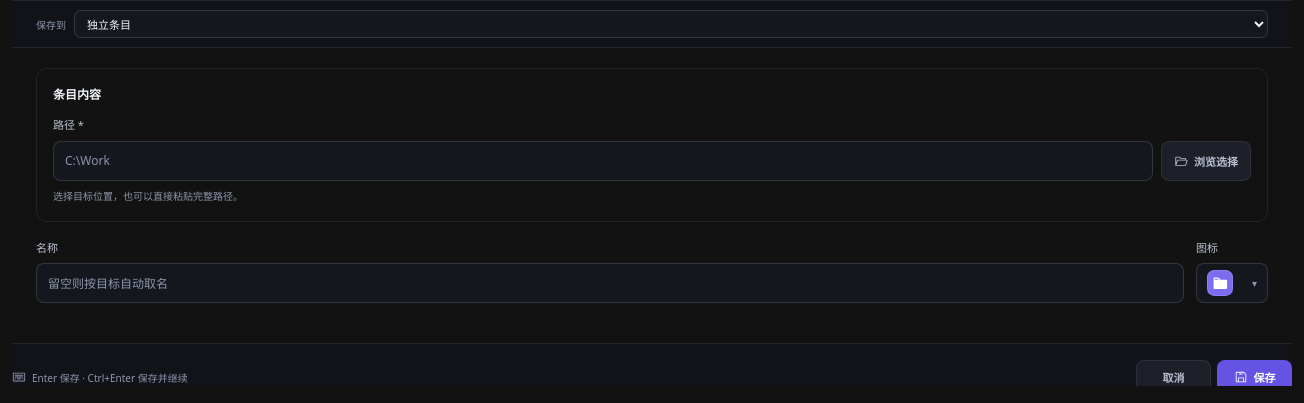
Scenario: ItemForm path input › shows the cleaned path as soon as the field is left
Type "  \"C:\\Program Files\\App\"  " into the field with test id "item-path-input" at (603, 160), box [53,140,1153,180]
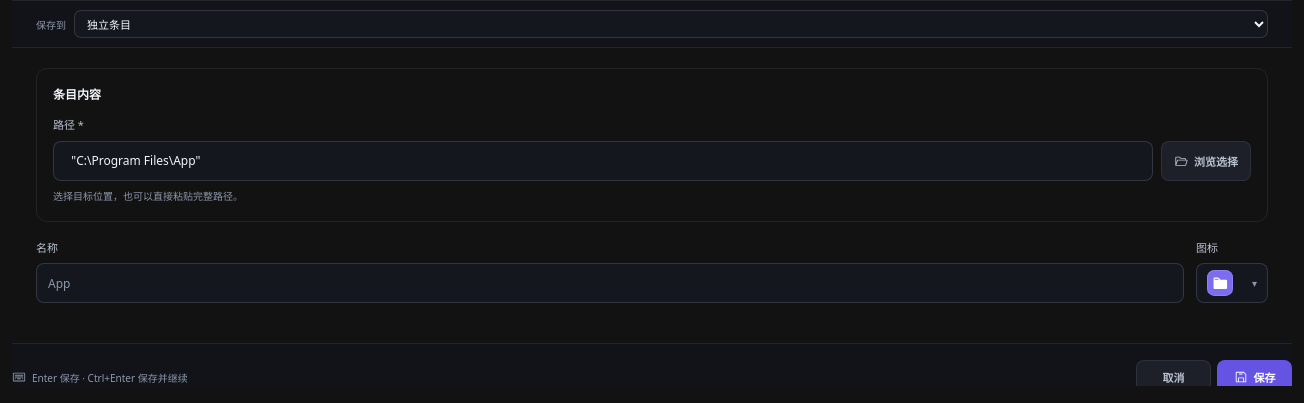
Leave the field with test id "item-path-input", box [53,140,1153,180]
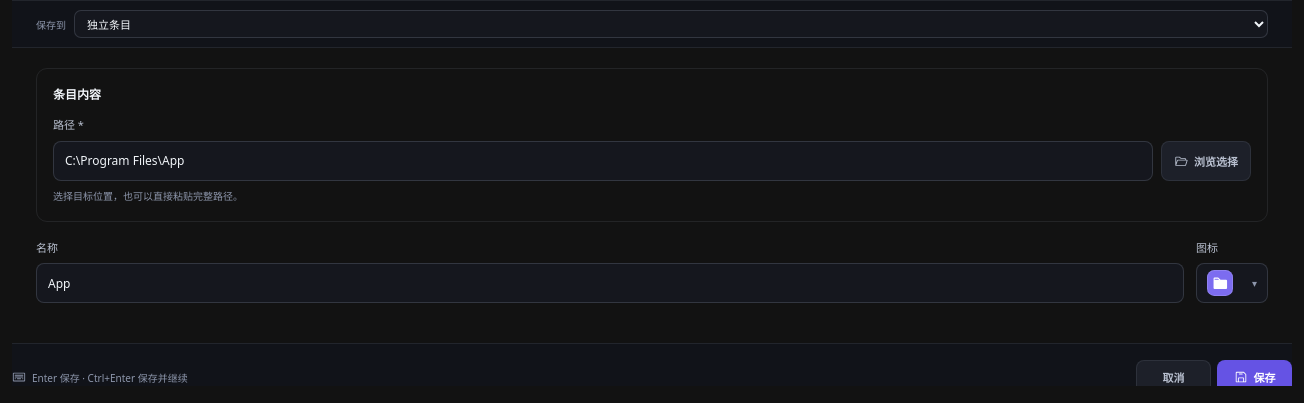
Now the field with test id "item-path-input" holds "C:\\Program Files\\App", box [53,140,1153,180]
